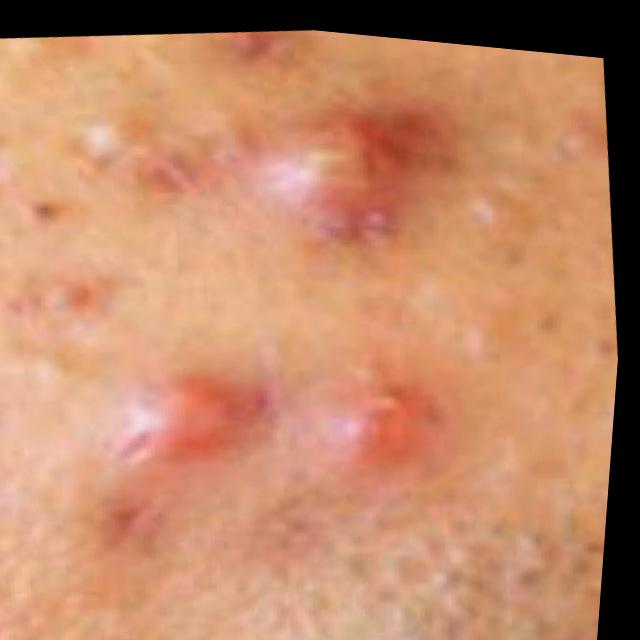nodule: (143, 351, 473, 493), (229, 62, 453, 266)
